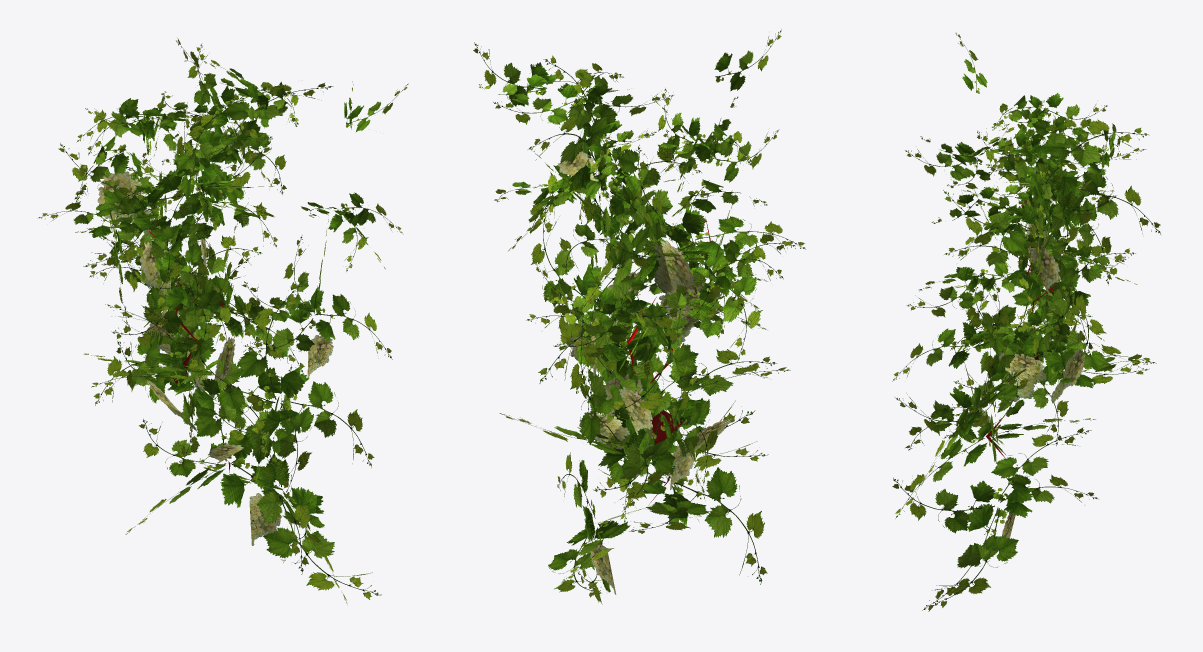
File: grape1 lod2.FBX
3 renders of one model, left to right at view 1: azimuth 30°, elevation 25°; view 2: azimuth 150°, elevation 25°; view 3: azimuth 270°, elevation 25°, orthographic. The views are drawn at different scales.
Visible parts, largest first — view 1: grape_plant002; view 2: grape_plant002; view 3: grape_plant002.
Boxes of the visible parts, box(x1,y1,x2,y2) form: grape_plant002: box(37, 38, 408, 603); grape_plant002: box(473, 29, 805, 604); grape_plant002: box(892, 33, 1160, 611).
Bounding box in the file's own units: 30843 × 48016 × 26340.
